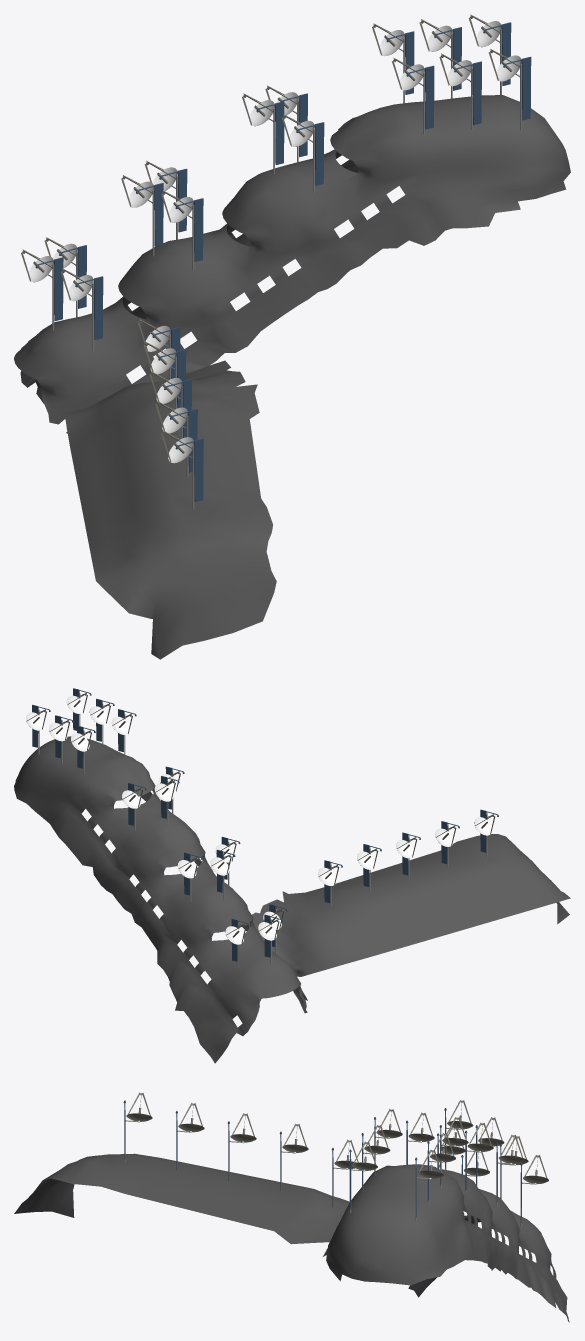
File: Overlay_5th_Gal_Top.glb
3 renders of one model, top to bottom at view 1: azimuth 30°, elevation 25°; view 2: azimuth 150°, elevation 25°; view 3: azimuth 270°, elevation 25°, orthographic. The views are drawn at different scales.
Visible parts, largest first — view 1: Overlay_5thGal_Top, LightTube_5thGal_Top_Mirrors, LightTubes_5thGal_Top_LEDs, LightTubes_5thGal_Top_Bases; view 2: Overlay_5thGal_Top, LightTube_5thGal_Top_Mirrors, LightTubes_5thGal_Top_LEDs, LightTubes_5thGal_Top_Bases; view 3: Overlay_5thGal_Top, LightTube_5thGal_Top_Mirrors, LightTubes_5thGal_Top_LEDs, LightTubes_5thGal_Top_Bases.
Part boxes in pixels (left/top/right/bottom): Overlay_5thGal_Top: left=14, top=95, right=570, bottom=659; LightTube_5thGal_Top_Mirrors: left=21, top=14, right=521, bottom=463; LightTubes_5thGal_Top_LEDs: left=35, top=22, right=531, bottom=502; LightTubes_5thGal_Top_Bases: left=48, top=26, right=521, bottom=509; Overlay_5thGal_Top: left=14, top=736, right=570, bottom=1063; LightTube_5thGal_Top_Mirrors: left=26, top=692, right=495, bottom=944; LightTubes_5thGal_Top_LEDs: left=32, top=688, right=498, bottom=961; LightTubes_5thGal_Top_Bases: left=38, top=691, right=487, bottom=968; Overlay_5thGal_Top: left=14, top=1153, right=569, bottom=1322; LightTube_5thGal_Top_Mirrors: left=126, top=1092, right=548, bottom=1184; LightTubes_5thGal_Top_LEDs: left=123, top=1100, right=522, bottom=1222; LightTubes_5thGal_Top_Bases: left=124, top=1110, right=534, bottom=1226.
Size of what is drawn, in the model's own units: 346 by 200 by 324.
